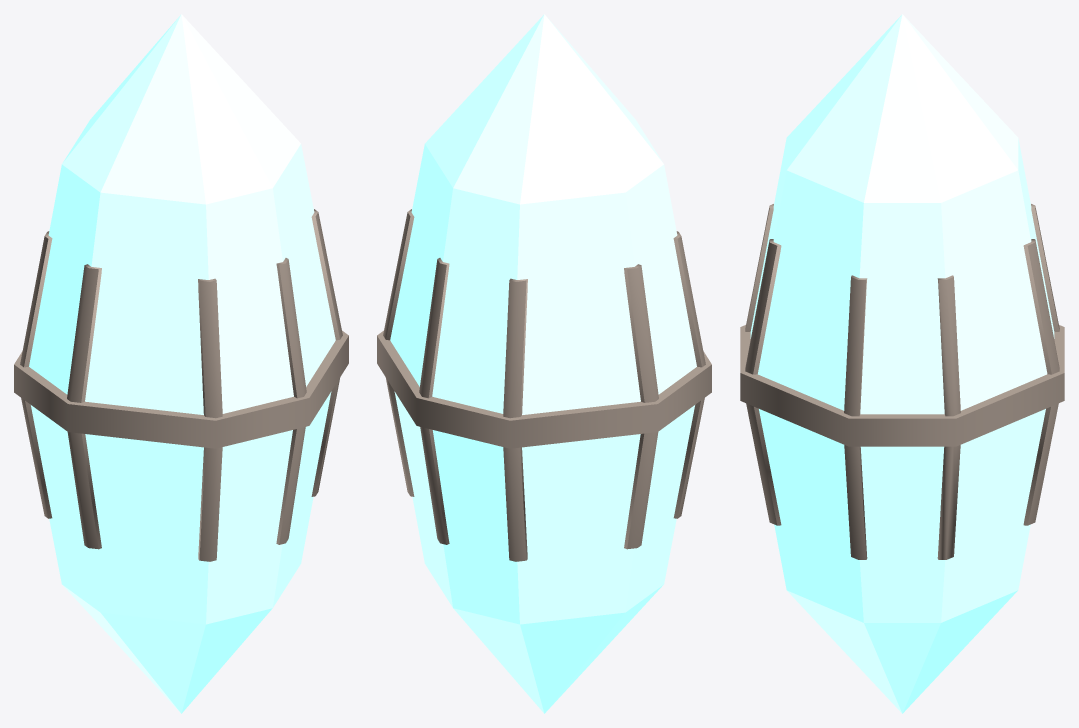
File: AriditeCrystal.fbx
3 views of the same model, side by side, from view 1: azimuth 30°, elevation 25°; view 2: azimuth 150°, elevation 25°; view 3: azimuth 270°, elevation 25° (orthographic).
Parts seen in each view (by area): view 1: AriditeCrystal_LOD0; view 2: AriditeCrystal_LOD0; view 3: AriditeCrystal_LOD0.
Boxes of the visible parts, x1,y1,x2,y2 form: AriditeCrystal_LOD0: [14, 14, 348, 713]; AriditeCrystal_LOD0: [377, 14, 711, 713]; AriditeCrystal_LOD0: [740, 14, 1064, 713].
Size of what is drawn, in the model's own units: 0.0735 by 0.175 by 0.0735.
